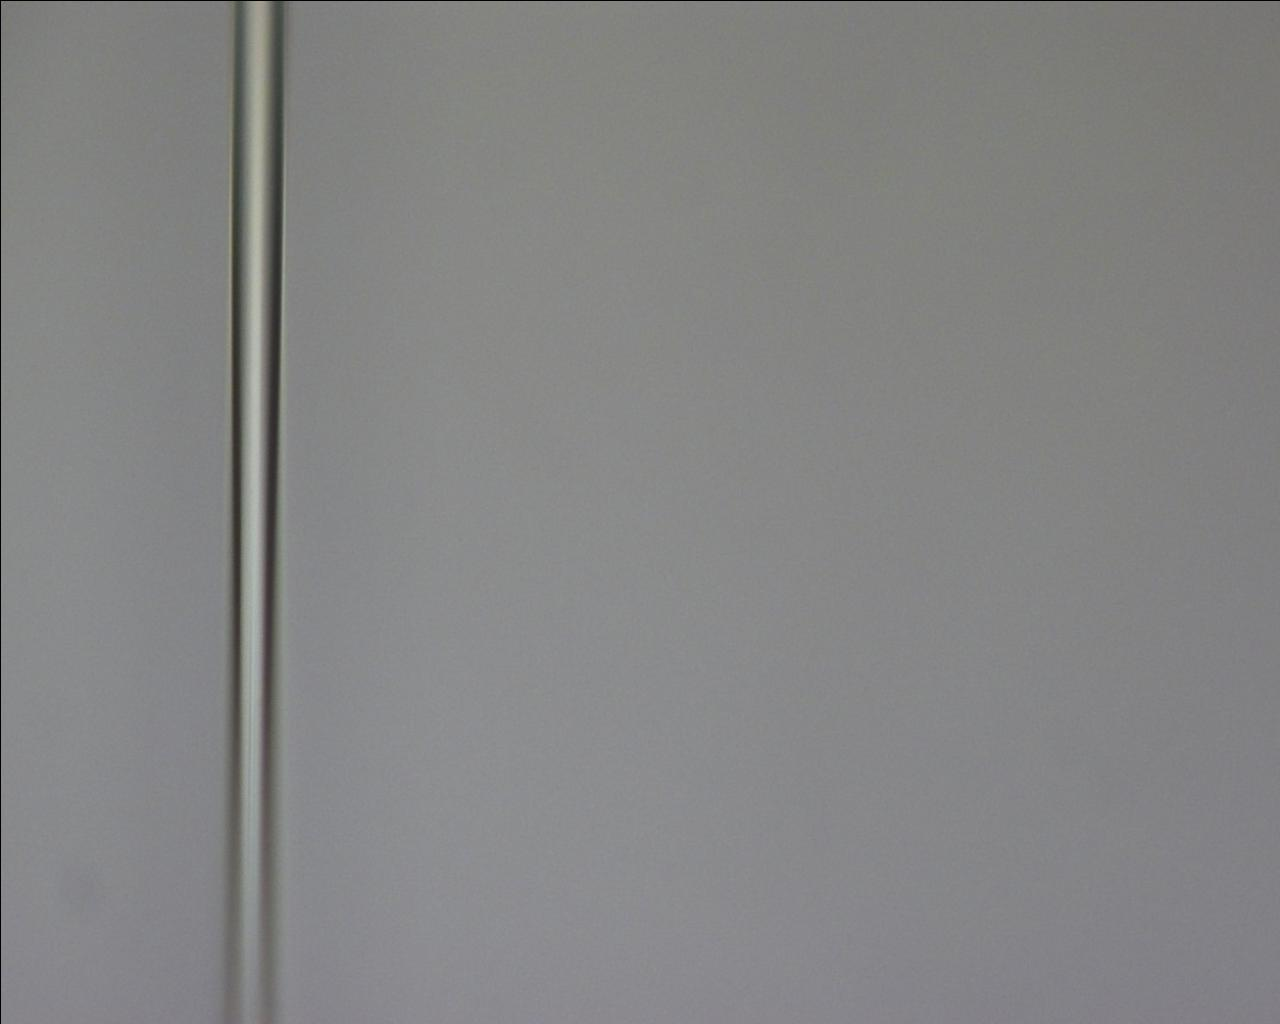fiber: (716, 389, 1107, 1024), (786, 0, 1280, 389), (13, 389, 203, 1024), (17, 0, 32, 389)
